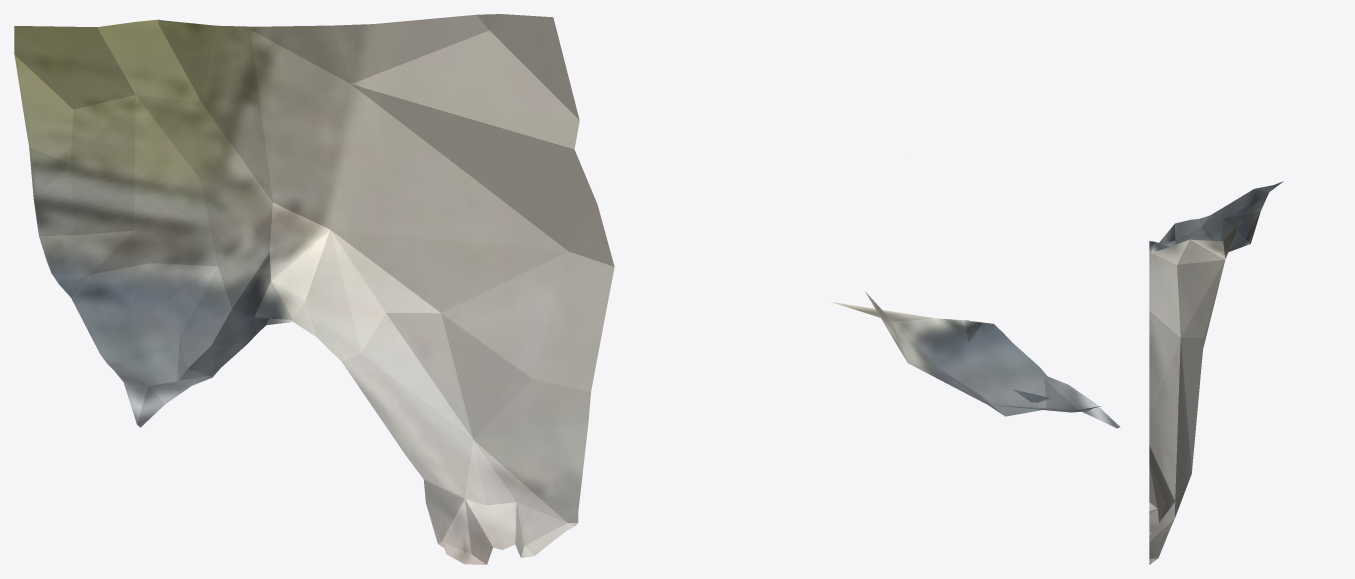
The picture shows the model from 3 angles, left to right: view 1: azimuth 30°, elevation 25°; view 2: azimuth 150°, elevation 25°; view 3: azimuth 270°, elevation 25°; orthographic projection. The views are drawn at different scales.
Size of the model in its own units: 0.7939 by 0.8543 by 0.3651.
Materials: 1 (1 with a texture image).
